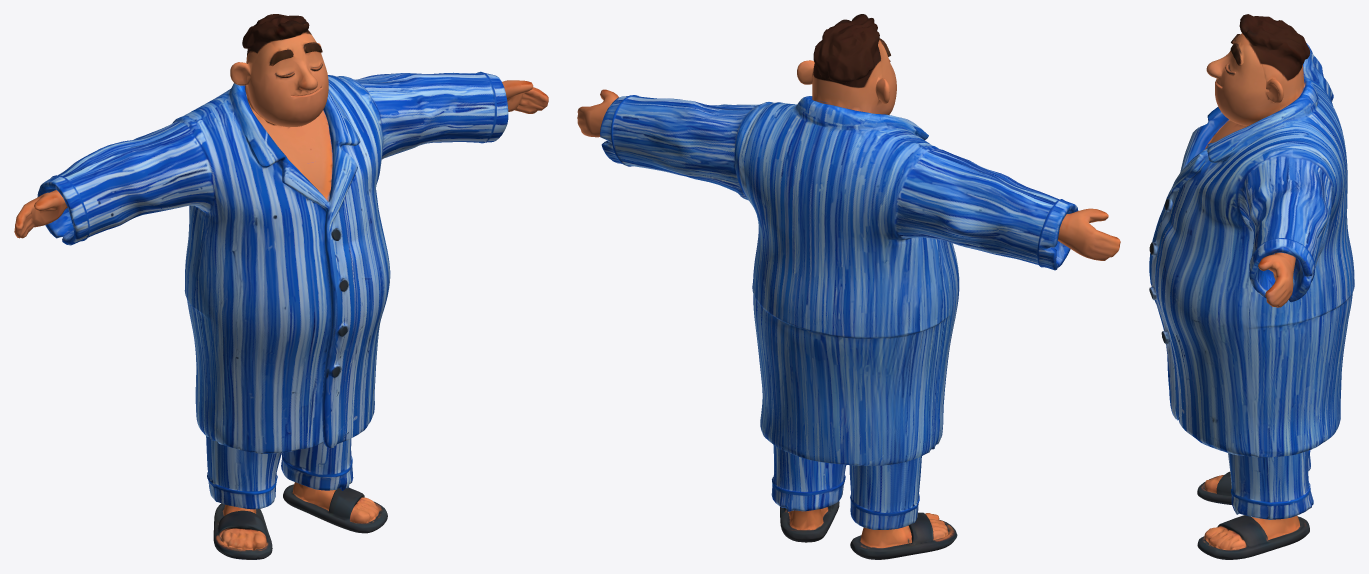
File: mattress_mo.glb
3 views of the same model, side by side, from view 1: azimuth 30°, elevation 25°; view 2: azimuth 150°, elevation 25°; view 3: azimuth 270°, elevation 25° (orthographic). The views are drawn at different scales.
Parts seen in each view (by area): view 1: mattress_mo; view 2: mattress_mo; view 3: mattress_mo.
Part boxes in pixels (x1,y1,x2,y2): mattress_mo: [14, 14, 548, 559]; mattress_mo: [577, 14, 1120, 559]; mattress_mo: [1149, 14, 1354, 559].
Size of the model in its own units: 1.91 by 1.75 by 0.6439.
Materials: 1 (1 with a texture image).
